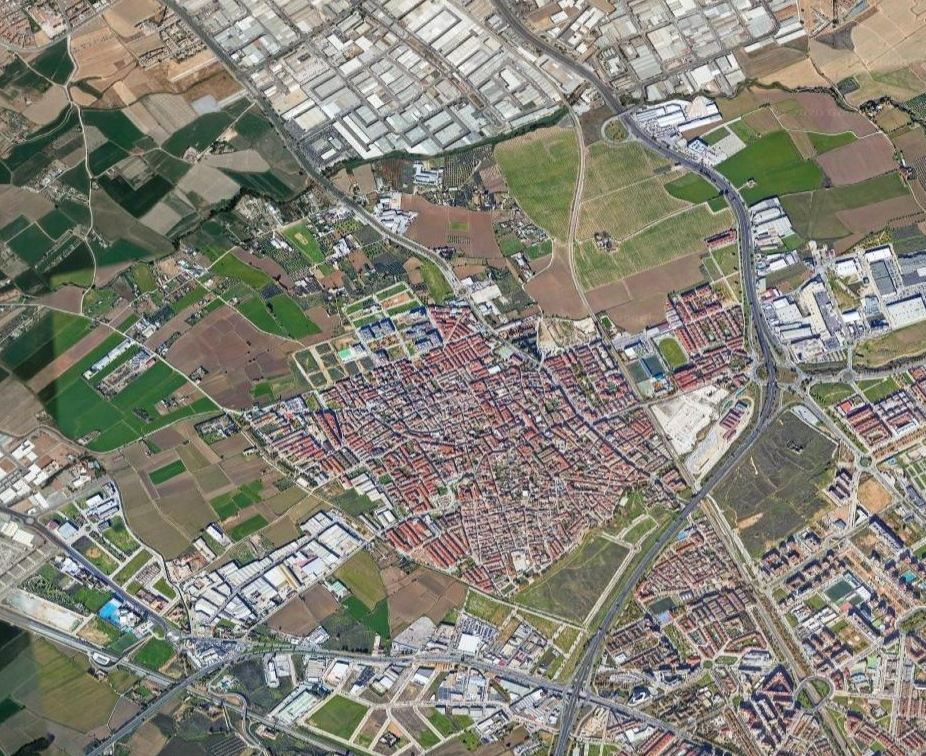industrial: (182, 1, 801, 147), (750, 220, 926, 377), (196, 493, 372, 650)
motorway: (686, 195, 788, 451), (606, 452, 741, 598), (532, 588, 623, 756), (481, 1, 620, 100), (610, 102, 740, 196)
